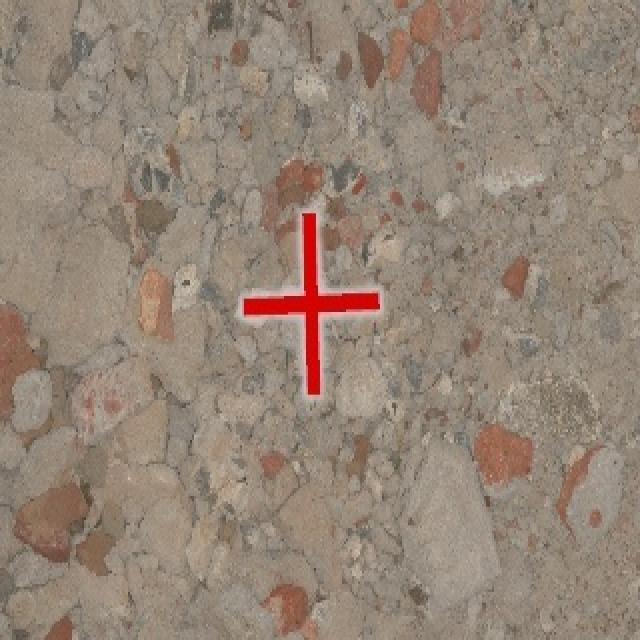x_marker: (241, 212, 379, 393)
